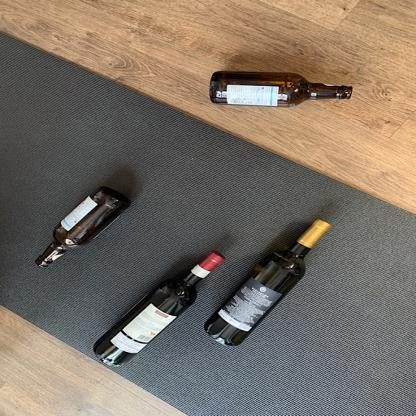trash: (204, 215, 336, 352), (93, 248, 224, 374), (31, 184, 132, 268), (208, 71, 355, 109)
